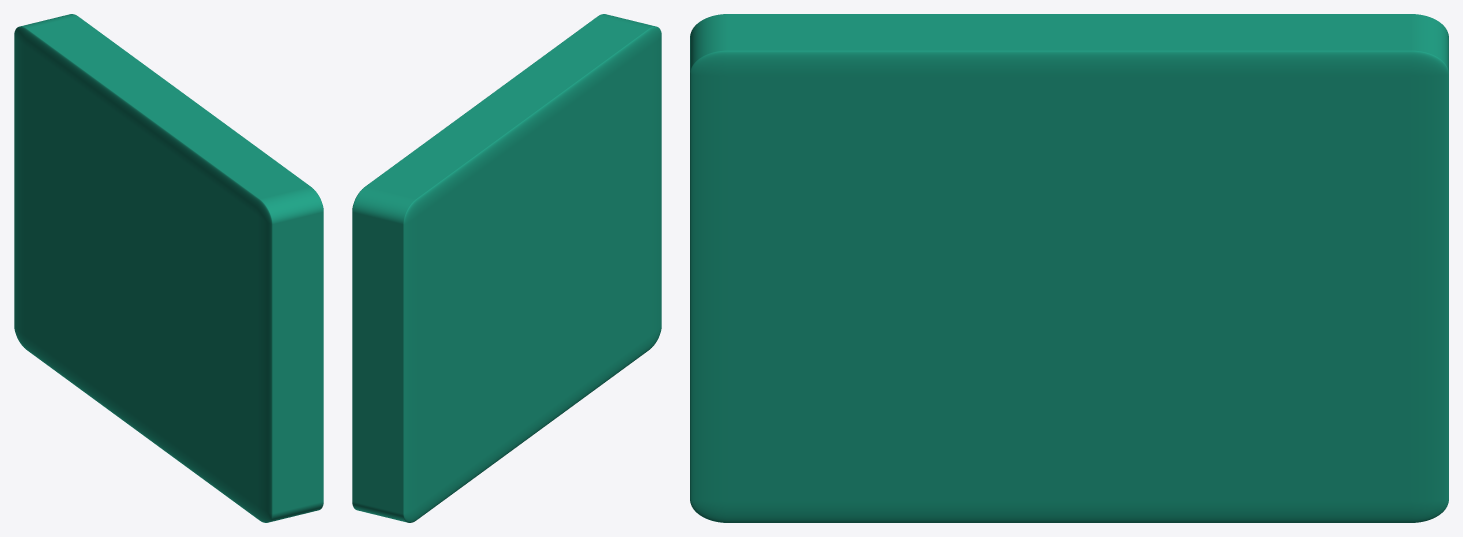
The model's file is MenuBackground.obj.
3 renders of one model, left to right at view 1: azimuth 30°, elevation 25°; view 2: azimuth 150°, elevation 25°; view 3: azimuth 270°, elevation 25°, orthographic. The views are drawn at different scales.
Parts seen in each view (by area): view 1: Cube; view 2: Cube; view 3: Cube.
Part boxes in pixels (x1,y1,x2,y2): Cube: (14,14,323,522); Cube: (352,14,661,522); Cube: (690,14,1448,522).
Bounding box in the file's own units: 2 × 10.87 × 15.83.
